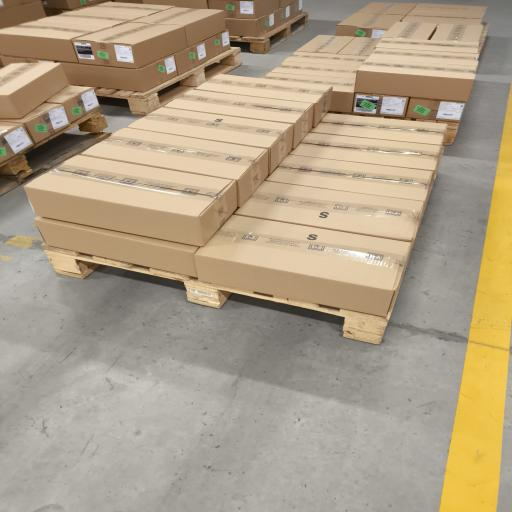pallet: (42, 244, 390, 344), (96, 48, 241, 115), (0, 109, 110, 195), (230, 12, 308, 54), (399, 118, 459, 145), (479, 23, 489, 53)
